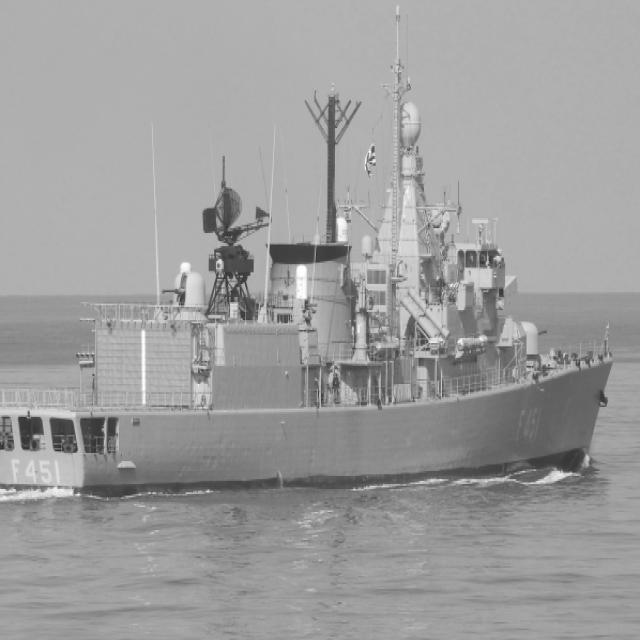Fragata: (1, 1, 622, 497)
